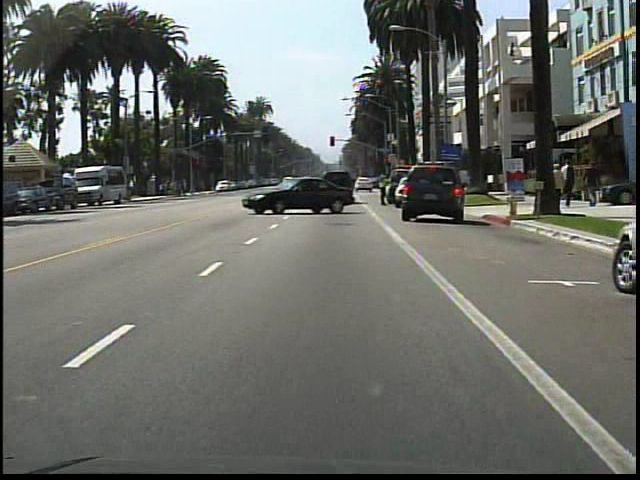person: (583, 155, 604, 208), (560, 159, 577, 213), (376, 171, 393, 211), (554, 163, 563, 211)
